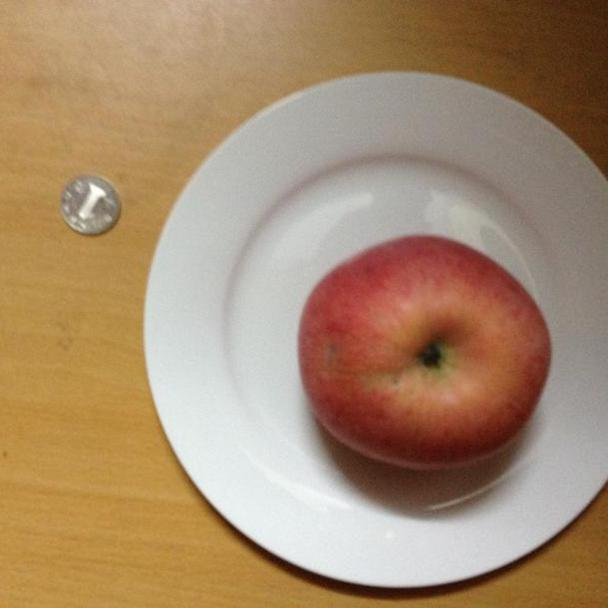apple: (295, 234, 553, 472)
